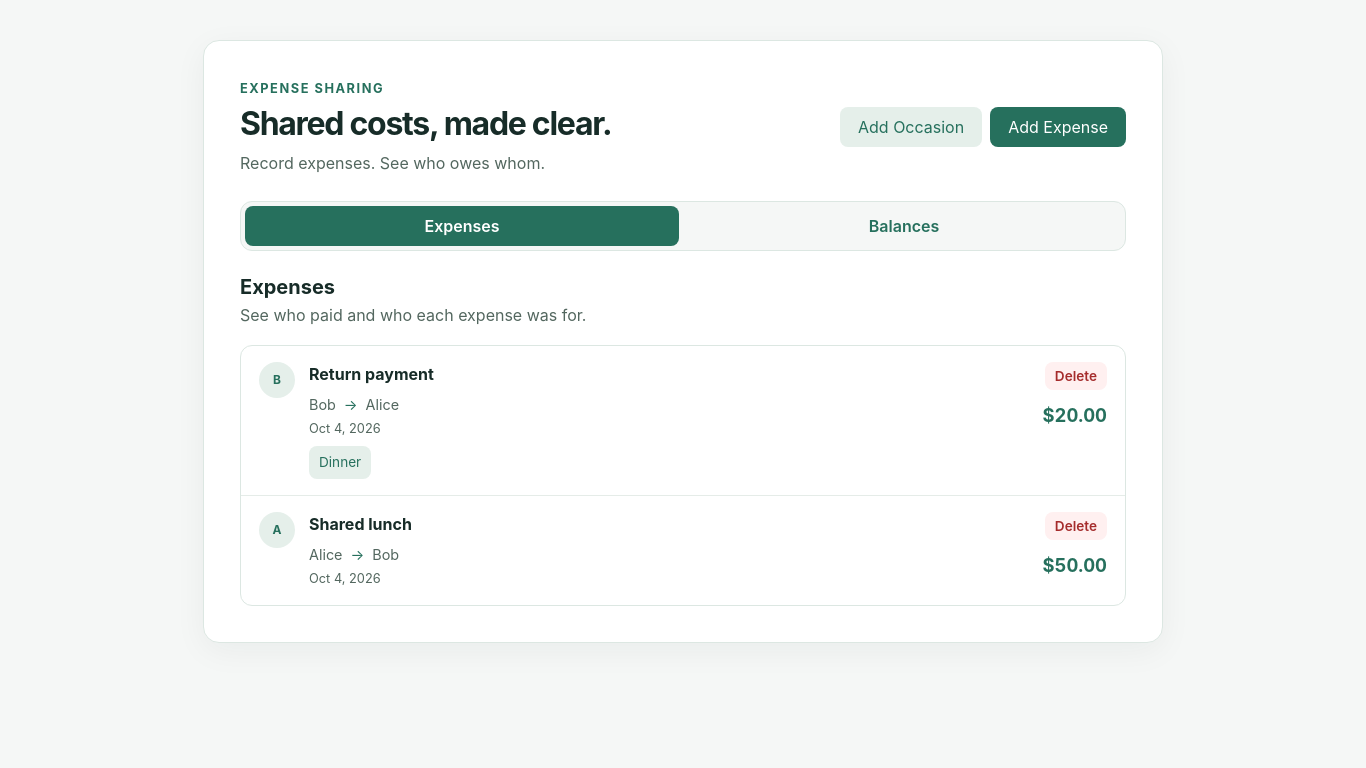
Scenario: deletes only the selected expense and refreshes balances (previously opened: true)
The image size is (1366, 768).
Expected: the list named "Expenses" is shown, [240,345,1126,606]
Click the tab "Balances": (904, 226) [687,206,1121,246]
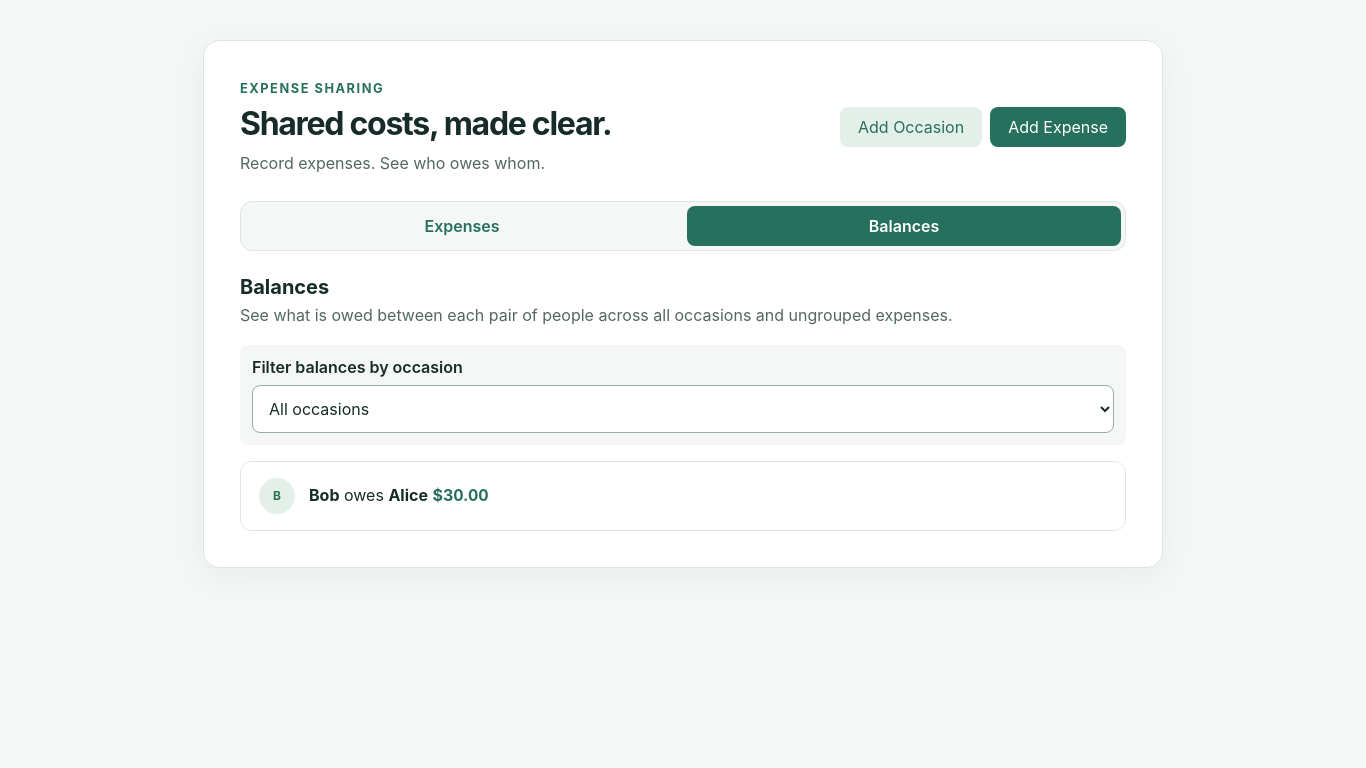
Result: the list named "Balances" is shown at [240,461,1126,531]
Click the tab "Expenses": (462, 226) [245,206,679,246]
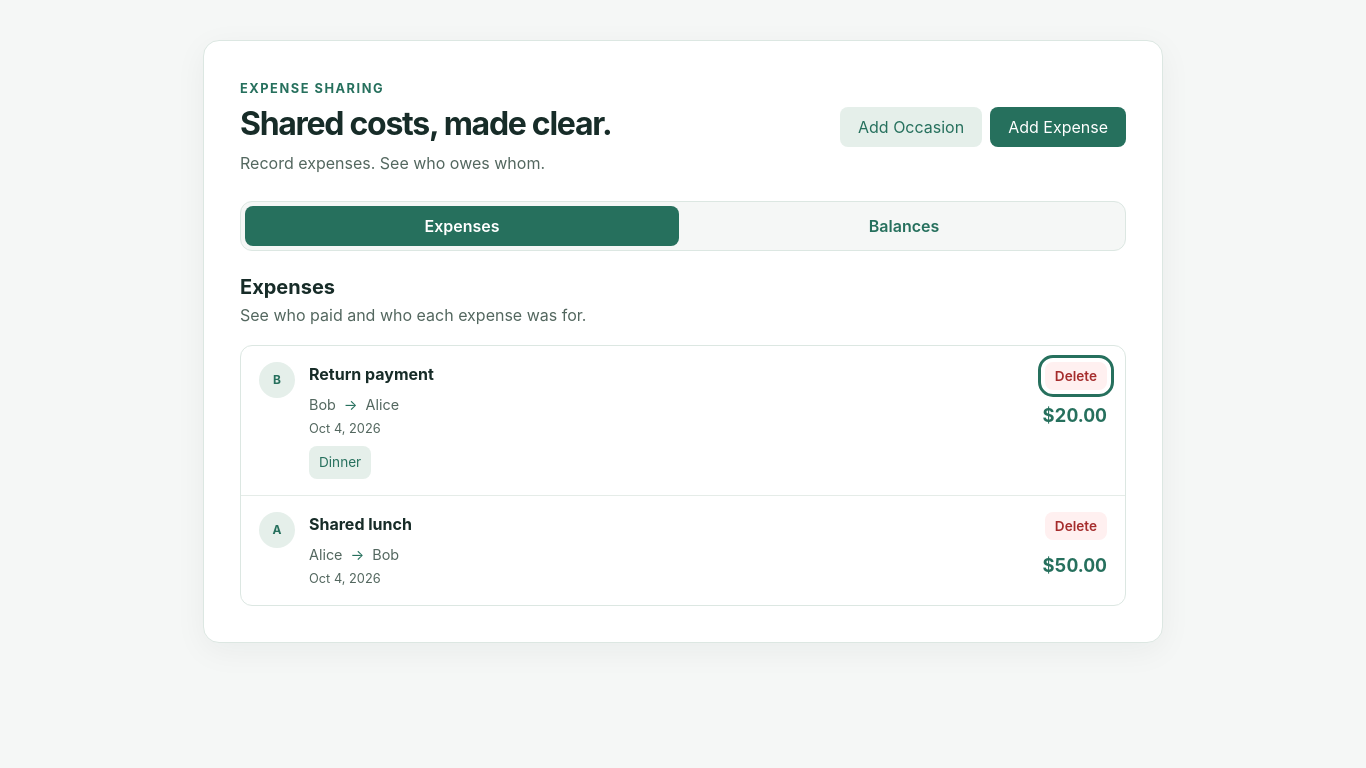
Click the button with aria-label "Delete expense: Return payment ($20.00)": (1076, 376) [1045,362,1107,390]
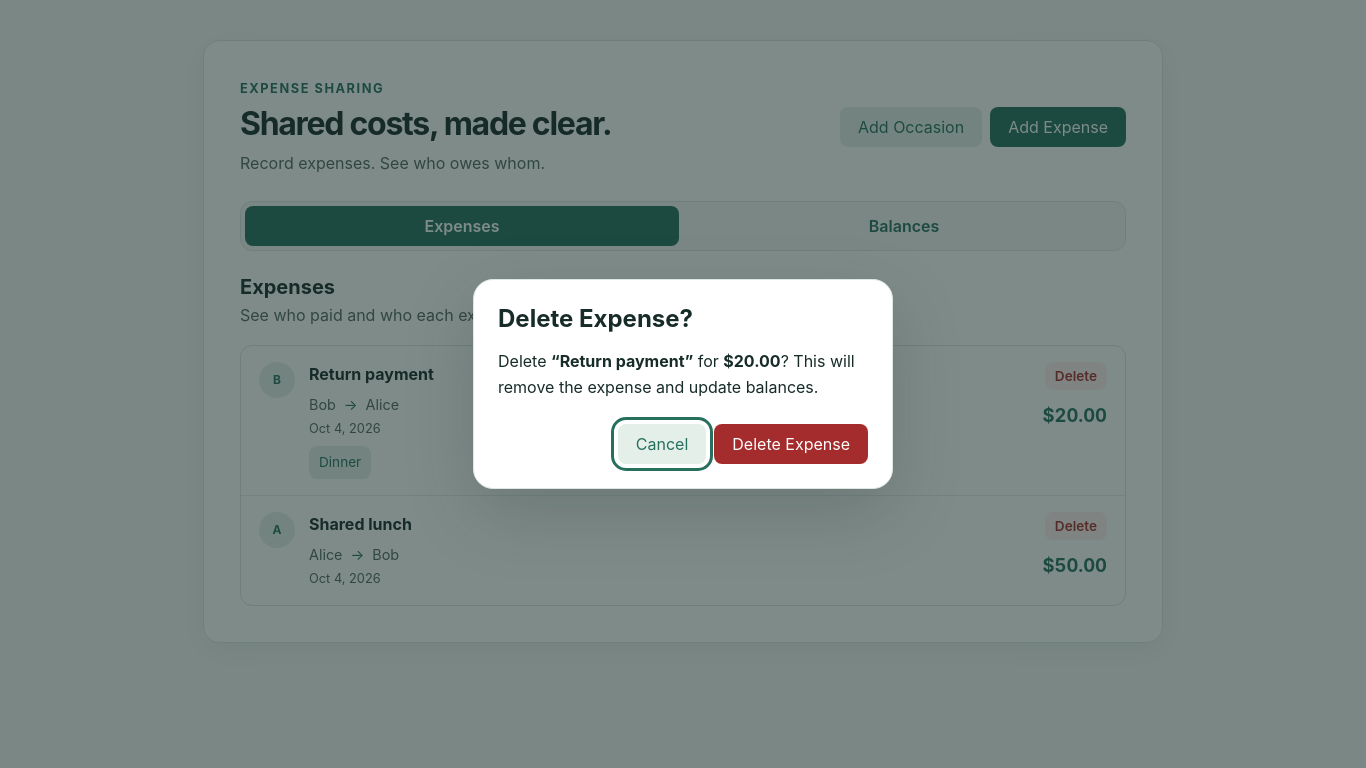
Click the button "Delete Expense": (791, 444) [714,424,868,464]
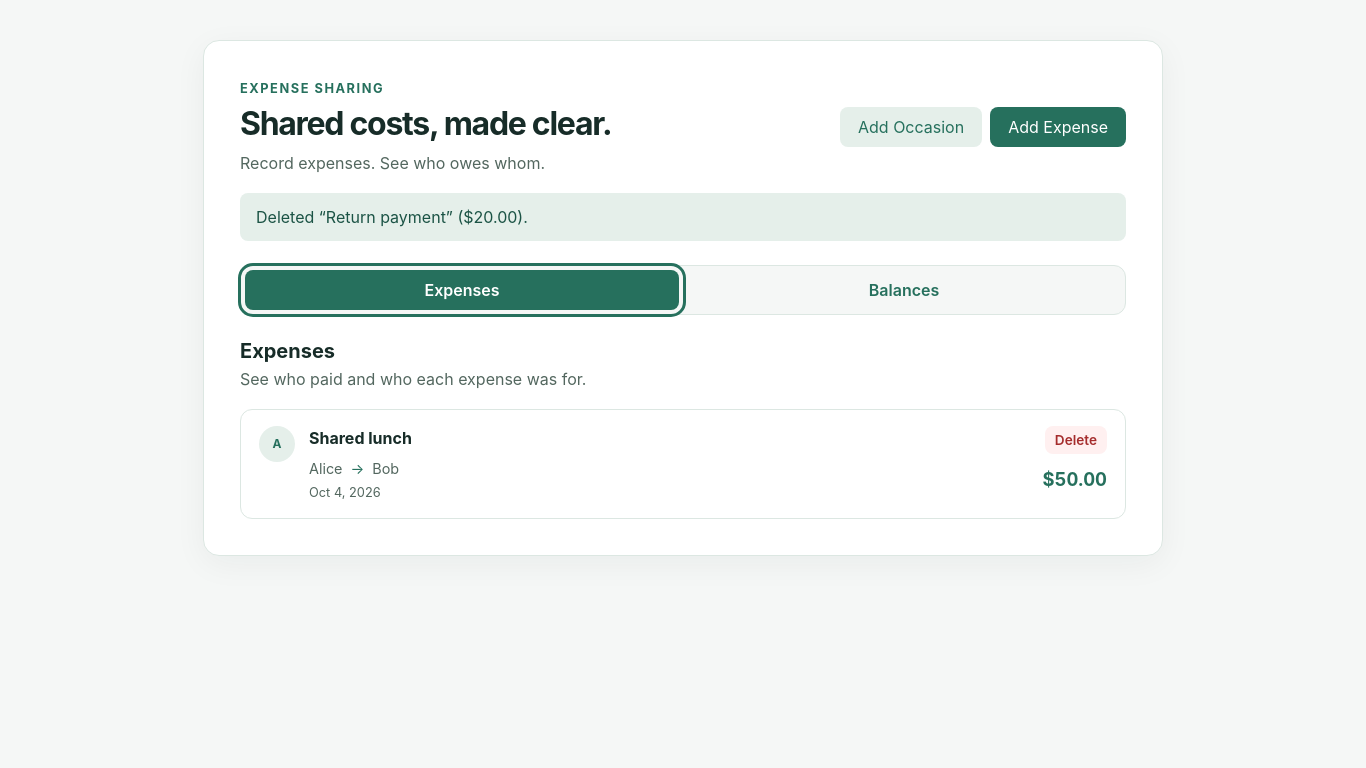
Result: the heading "Shared lunch" is shown at [309,426,412,450]
Result: the dialog is gone
Result: the text "Deleted “Return payment” ($20.00)." is shown at [240,193,1126,241]
Click the tab "Balances": (904, 290) [687,270,1121,310]
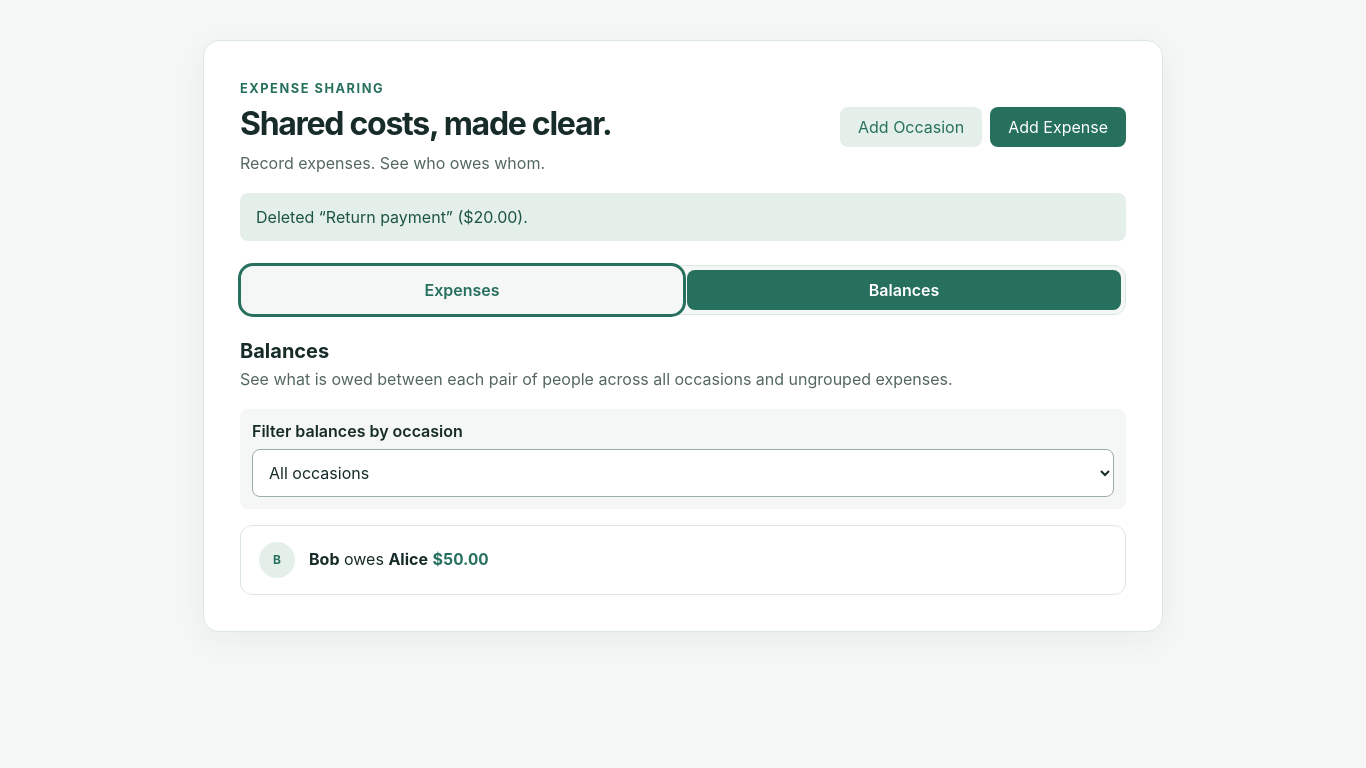
Result: the list named "Balances" reads "Bob owes Alice $50.00" at [240,525,1126,595]
